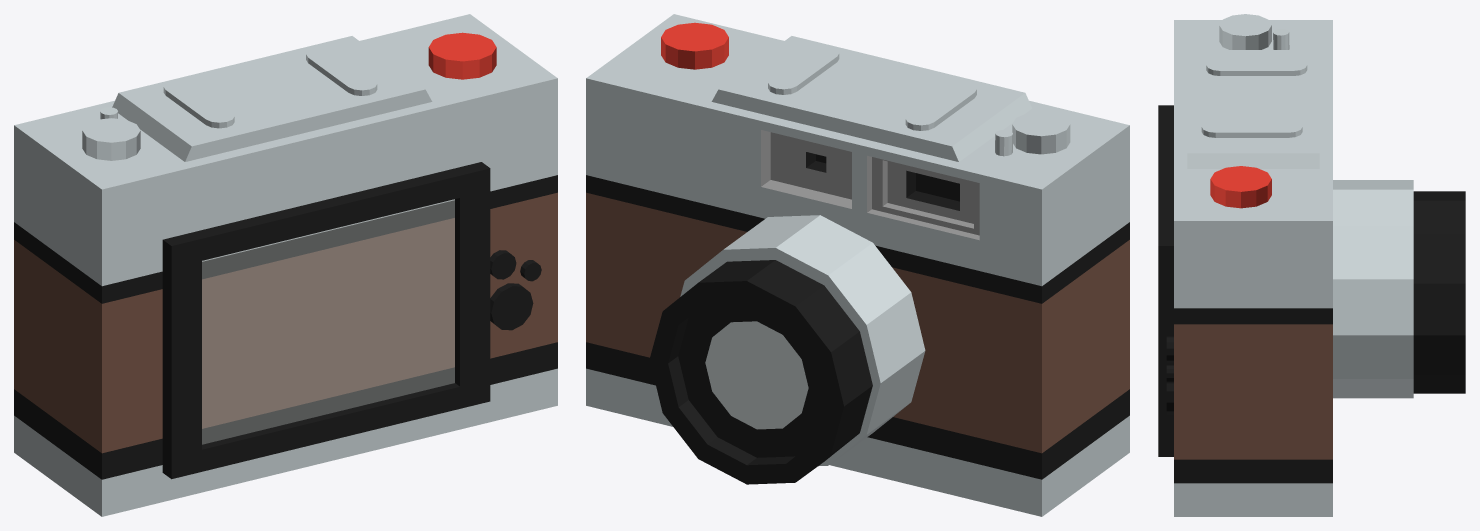
File: camera.glb
The picture shows the model from 3 angles, left to right: view 1: azimuth 30°, elevation 25°; view 2: azimuth 150°, elevation 25°; view 3: azimuth 270°, elevation 25°; orthographic projection. The views are drawn at different scales.
Visible parts, largest first — view 1: Node; view 2: Node; view 3: Node.
Boxes of the visible parts, bbox=[...] form: Node: bbox=[14, 14, 557, 516]; Node: bbox=[586, 14, 1129, 516]; Node: bbox=[1158, 14, 1465, 516].
Size of the model in its own units: 0.5426 by 0.3948 by 0.3508.
